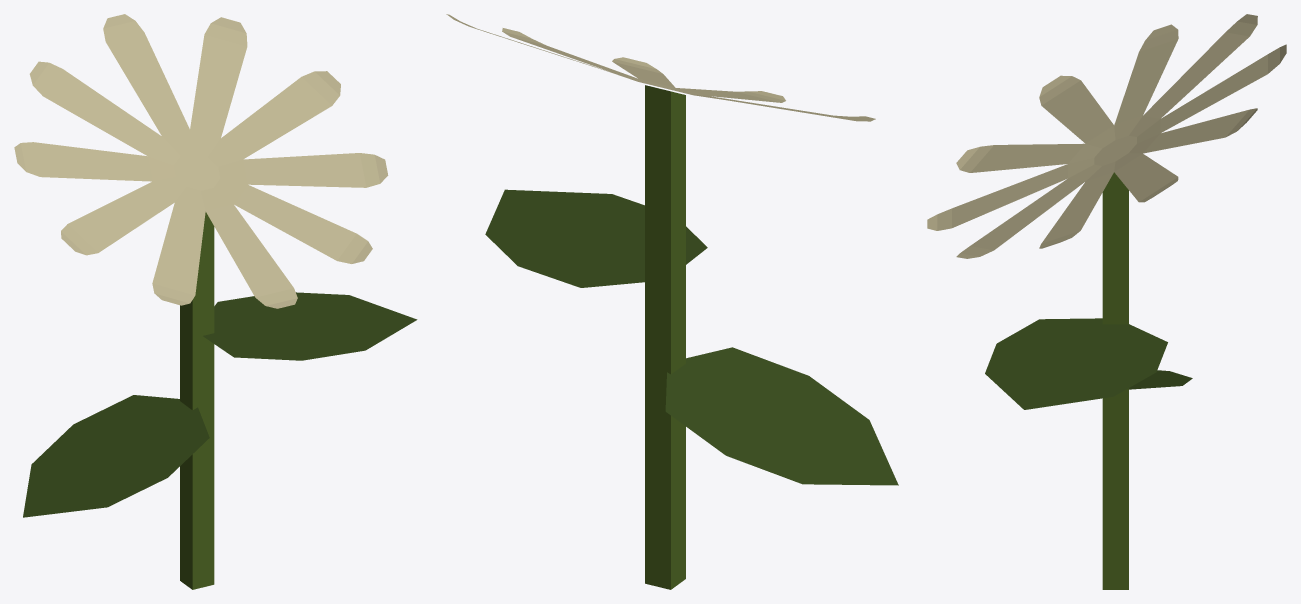
The model's file is wild_pz_flower_23.glb.
The picture shows the model from 3 angles, left to right: view 1: azimuth 30°, elevation 25°; view 2: azimuth 150°, elevation 25°; view 3: azimuth 270°, elevation 25°; orthographic projection. The views are drawn at different scales.
Parts seen in each view (by area): view 1: pg_flower_23; view 2: pg_flower_23; view 3: pg_flower_23.
Boxes of the visible parts, bbox=[...] form: pg_flower_23: bbox=[14, 14, 417, 589]; pg_flower_23: bbox=[446, 14, 898, 589]; pg_flower_23: bbox=[927, 14, 1286, 589].
Bounding box in the file's own units: 0.4581 × 0.6142 × 0.3733.
